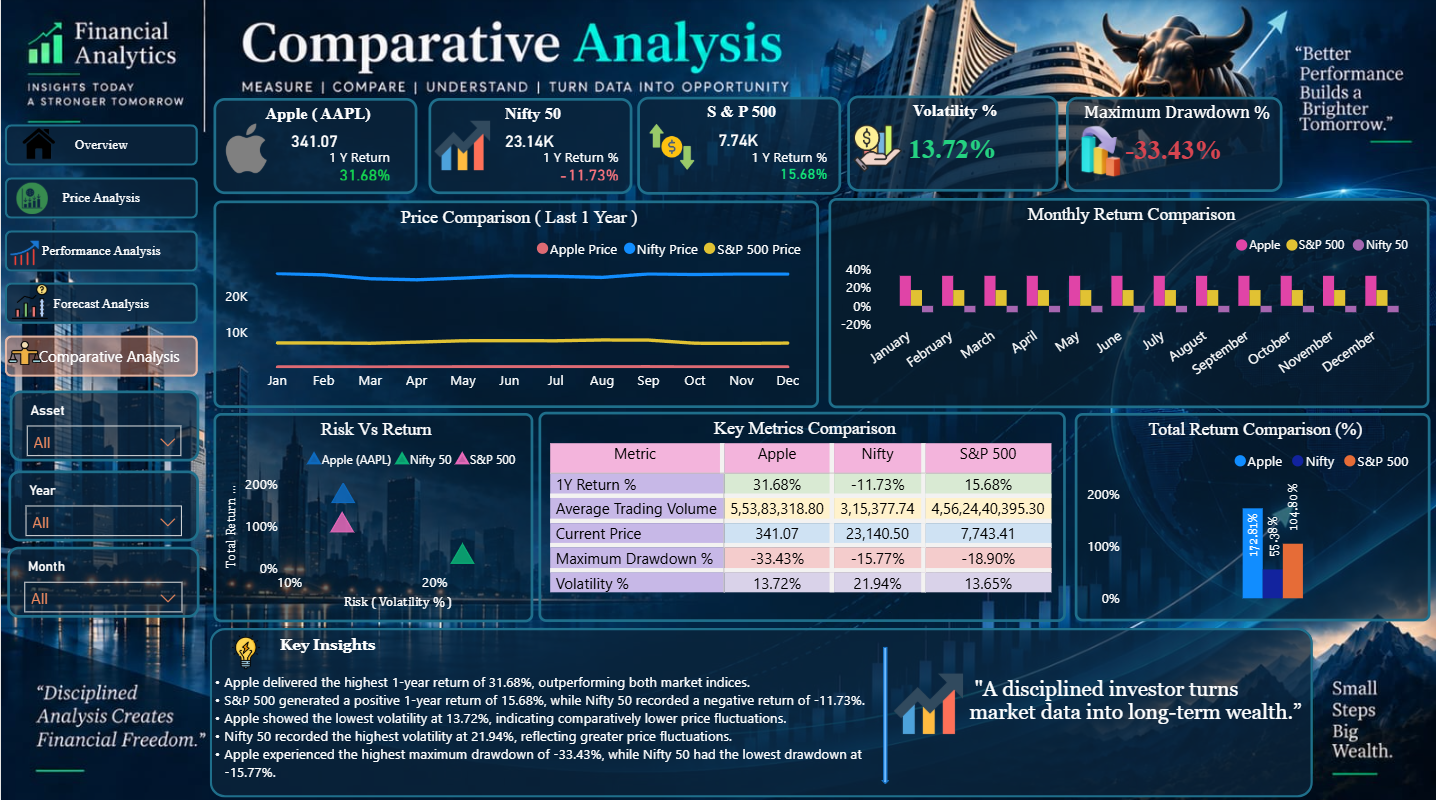

Layout of this report page (visuals, bound fields, positions):
{"tool":"powerbi","page":{"name":"Comparative Analysis","canvas":[1280,720],"ordinal":4},"visuals":[{"type":"card","title":"Maximum Drawdown %","fields":{"Values":["Price Bin.Selected Maximum Drawdown %"]},"box":[948.4,87.9,192.6,84.6],"z":0},{"type":"card","title":"Volatility %","fields":{"Values":["Price Periods.Volatility %"]},"box":[753.6,86.8,188.1,85.7],"z":1000},{"type":"cardVisual","title":"Apple ( AAPL)","fields":{"Data":["Price Bin.Apple Current Price","Price Bin.Apple 1Y Return %"]},"box":[189.2,89.1,181.4,85.7],"z":2000},{"type":"image","box":[178.1,78.5,80.9,112.1],"z":3000},{"type":"image","box":[936.5,107.1,85.9,59.8],"z":4000},{"type":"pageNavigator","box":[3.7,112,172.2,229.6],"z":5000},{"type":"image","box":[0,188.9,42.6,75],"z":6000},{"type":"image","box":[4.6,243.5,42.6,52.8],"z":7000},{"type":"image","box":[9.3,143.5,38,69.4],"z":8000},{"type":"image","box":[4.6,92.6,58.3,75],"z":9000},{"type":"image","box":[0,285,42.3,62.3],"z":10000},{"type":"lineChart","title":"Price Comparison ( Last 1 Year )","fields":{"Category":["Daily_Data.Month Short"],"Y":["Price Bin.Apple Price","Price Bin.Nifty Price","Price Bin.S&P 500 Price"]},"box":[189.5,180.2,539.5,184.9],"z":11000},{"type":"pivotTable","title":"Key Metrics Comparison","fields":{"Rows":["Metrics.Metric"],"Values":["Price Bin.Apple Metric Value","Price Bin.Nifty Metric Value","Price Bin.S&P 500 Metric Value"]},"box":[478.5,368.7,469.7,186.9],"z":12000},{"type":"clusteredColumnChart","title":"Total Return Comparison (%)","fields":{"Y":["Price Bin.Apple Total Return %","Price Bin.Nifty Total Return %","Price Bin.S&P 500 Total Return %"]},"box":[955.8,369.9,316.9,185.6],"z":13000},{"type":"clusteredColumnChart","title":"Monthly Return Comparison","fields":{"Category":["Daily_Data.Month"],"Y":["Daily_Data.AAPL 1Y Return %","Daily_Data.SP500 1Y Return %","Daily_Data.NIFTY50 1Y Return %"]},"box":[737.2,177.9,534.9,187.2],"z":14000},{"type":"shape","box":[185.7,561,982.3,150.8],"z":15000},{"type":"textbox","box":[176.3,561.4,615.1,147.5],"z":16000},{"type":"image","box":[790.2,588.9,71.3,78.8],"z":17000},{"type":"shape","box":[783.9,577.6,7.5,122.5],"z":18000},{"type":"textbox","box":[835.2,600.1,337.6,67.5],"z":19000},{"type":"image","box":[195,561.4,46.5,41.9],"z":20000},{"type":"slicer","title":" Current Price ","fields":{"Values":["Daily_Data.Year"]},"box":[6.3,421.3,169.8,62.9],"z":21000},{"type":"slicer","title":" Current Price ","fields":{"Values":["Daily_Data.Month"]},"box":[5,489.2,171,62.9],"z":22000},{"type":"slicer","title":" Current Price ","fields":{"Values":["Asset Selector.Asset"]},"box":[7.5,349.6,168.5,62.9],"z":23000},{"type":"cardVisual","title":"Nifty 50","fields":{"Data":["Price Bin.Nifty Current Price","Price Bin.Nifty 1Y Return %"]},"box":[380.7,89.1,181.4,85.7],"z":24000},{"type":"image","box":[379.6,101.3,62.3,60.1],"z":25000},{"type":"cardVisual","title":"S & P 500","fields":{"Data":["Price Bin.S&P 500 Current Price","Price Bin.S&P 500 1Y Return %"]},"box":[566.6,87.9,181.4,86.8],"z":26000},{"type":"image","box":[566.6,105.8,61.2,53.4],"z":27000},{"type":"image","box":[753.5,94.6,54.8,78.5],"z":28000},{"type":"scatterChart","title":"Risk Vs Return","fields":{"Series":["Asset Selector.Asset"],"Size":["Daily_Data.NIFTY50 1Y Return %"],"X":["Price Periods.Volatility %"],"Y":["Price Periods.Selected Total Return %"]},"box":[189.5,369.8,284.9,186],"z":29000}]}

Visuals, with their boxes on the page's 1280x720 design canvas (x1, y1, x2, y2). These are canvas units, not pixel positions in the 1436x800 screenshot, which may show the page scaled, cropped or inside an application window:
"Maximum Drawdown %" card: box(948, 88, 1141, 172)
"Volatility %" card: box(754, 87, 942, 172)
"Apple ( AAPL)" cardVisual: box(189, 89, 371, 175)
image: box(178, 78, 259, 191)
image: box(936, 107, 1022, 167)
pageNavigator: box(4, 112, 176, 342)
image: box(0, 189, 43, 264)
image: box(5, 244, 47, 296)
image: box(9, 144, 47, 213)
image: box(5, 93, 63, 168)
image: box(0, 285, 42, 347)
"Price Comparison ( Last 1 Year )" lineChart: box(190, 180, 729, 365)
"Key Metrics Comparison" pivotTable: box(478, 369, 948, 556)
"Total Return Comparison (%)" clusteredColumnChart: box(956, 370, 1273, 556)
"Monthly Return Comparison" clusteredColumnChart: box(737, 178, 1272, 365)
shape: box(186, 561, 1168, 712)
textbox: box(176, 561, 791, 709)
image: box(790, 589, 862, 668)
shape: box(784, 578, 791, 700)
textbox: box(835, 600, 1173, 668)
image: box(195, 561, 242, 603)
" Current Price " slicer: box(6, 421, 176, 484)
" Current Price " slicer: box(5, 489, 176, 552)
" Current Price " slicer: box(8, 350, 176, 412)
"Nifty 50" cardVisual: box(381, 89, 562, 175)
image: box(380, 101, 442, 161)
"S & P 500" cardVisual: box(567, 88, 748, 175)
image: box(567, 106, 628, 159)
image: box(754, 95, 808, 173)
"Risk Vs Return" scatterChart: box(190, 370, 474, 556)
